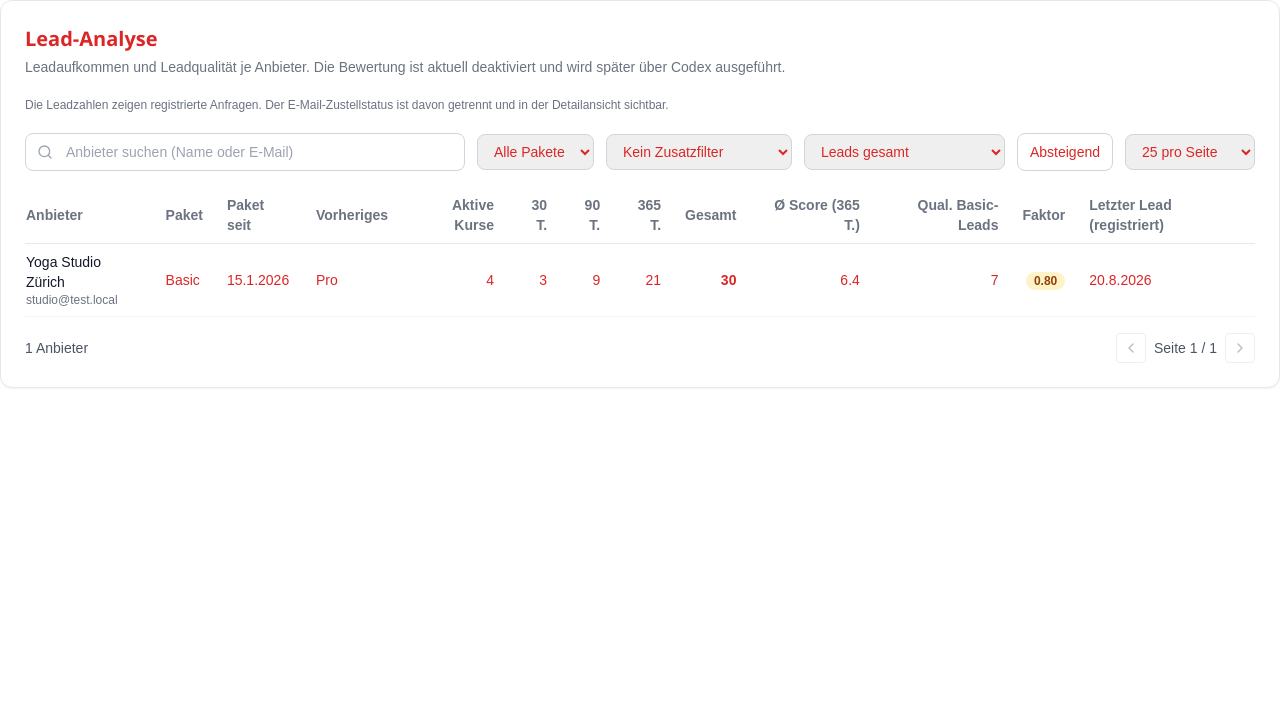
Scenario: Anbieterdetail › zeigt Kennzahlen, Basic-Phase und Ranking-Faktor
What coordinates should you click on to do the following:
click the text "Yoga Studio Zürich"
I would click on:
 (64, 272)
Its box is [26, 254, 101, 290].
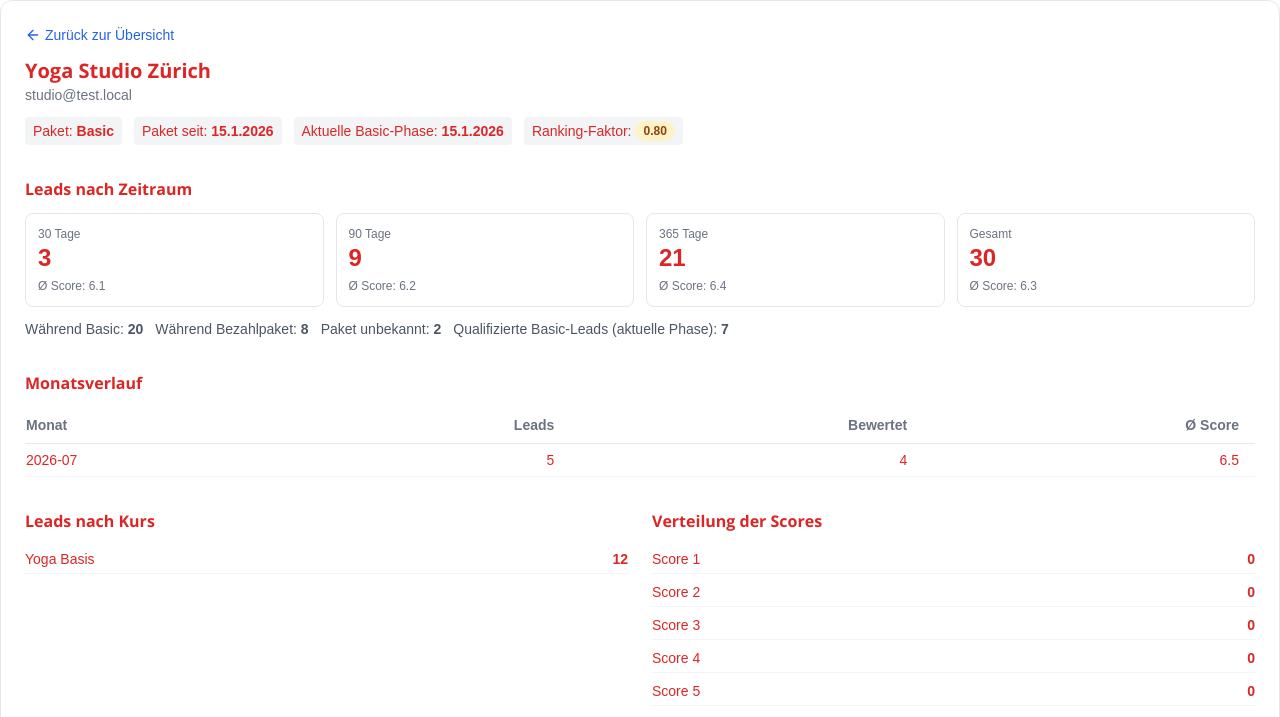
Expected: the text "30" is shown, [970, 244, 996, 271]
Now the heading "Leads nach Zeitraum" is shown, box [25, 178, 192, 200]
Now the text "Qualifizierte Basic-Leads (aktuelle Phase): 7" is shown, box [453, 319, 729, 339]
